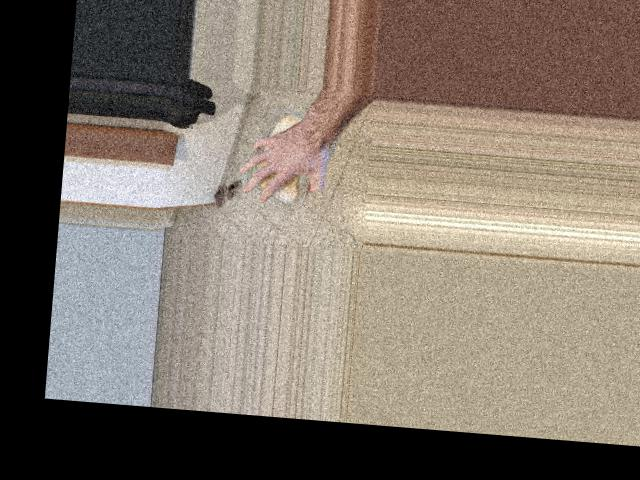cheese: (239, 109, 338, 210)
